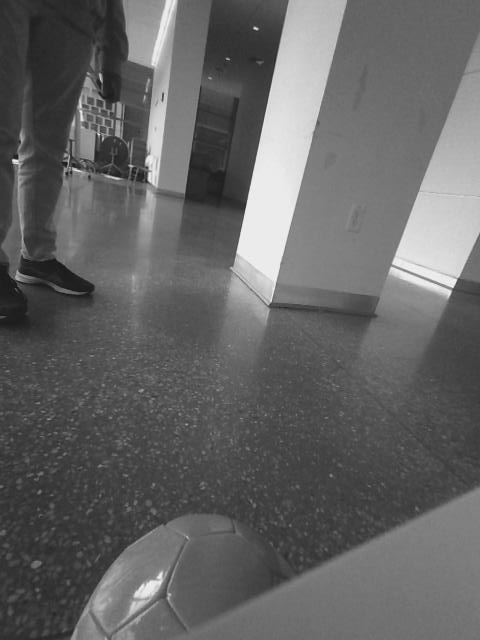ball: (180, 275, 262, 356)
